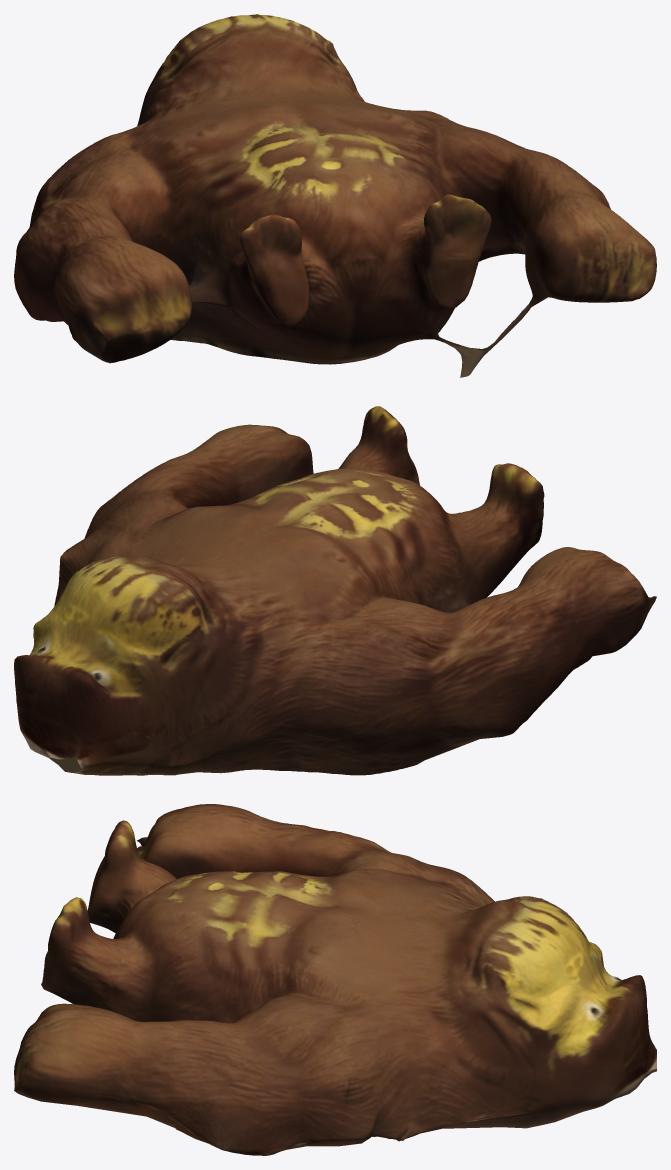
Rendered from 3DModel.glb.
The picture shows the model from 3 angles, top to bottom: view 1: azimuth 30°, elevation 25°; view 2: azimuth 150°, elevation 25°; view 3: azimuth 270°, elevation 25°; orthographic projection. The views are drawn at different scales.
Visible parts, largest first — view 1: 3DModel; view 2: 3DModel; view 3: 3DModel.
Part boxes in pixels (x1,y1,x2,y2): 3DModel: (14,14,656,377); 3DModel: (14,406,656,775); 3DModel: (14,804,656,1155).
Bounding box in the file's own units: 0.5643 × 0.1957 × 0.5875.
Materials: 1 (1 with a texture image).
